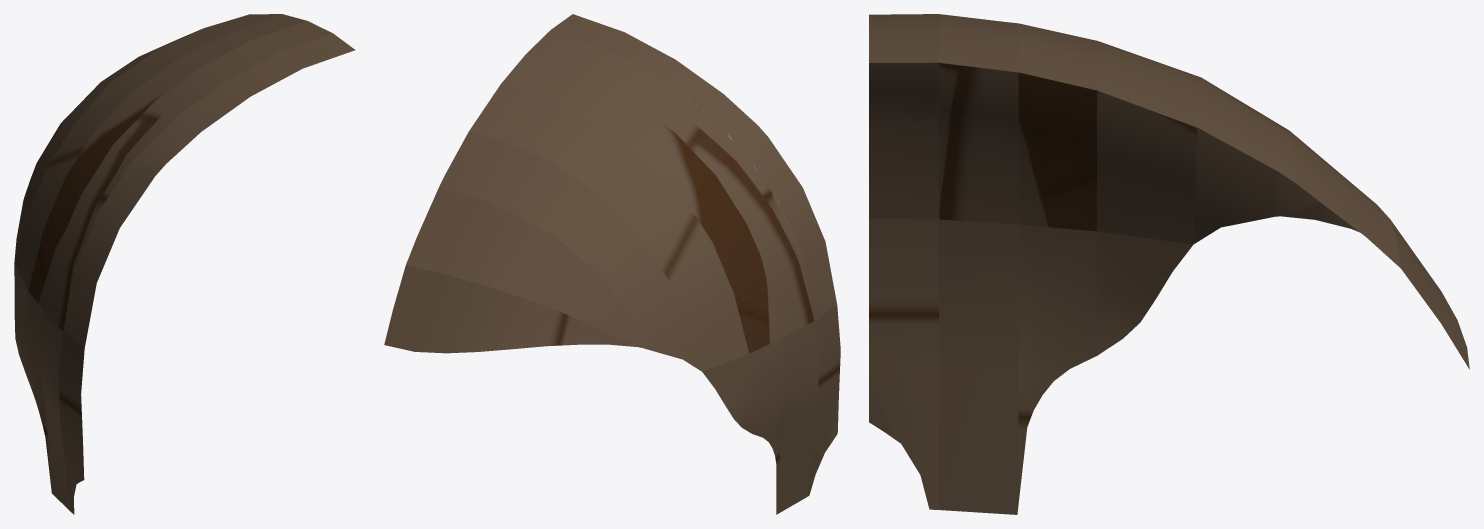
The model's file is Front_left_helm.fbx.
3 views of the same model, side by side, from view 1: azimuth 30°, elevation 25°; view 2: azimuth 150°, elevation 25°; view 3: azimuth 270°, elevation 25° (orthographic). The views are drawn at different scales.
Parts seen in each view (by area): view 1: Front_left_helm_5_1, Front_left_helm_5_3, Front_left_helm_5_5, Front_left_helm_5_7, Front_left_helm_5_2, Front_left_helm_5_4, Front_left_helm_5_9, Front_left_helm_5_6, Front_left_helm_5_8; view 2: Front_left_helm_5_7, Front_left_helm_5_9, Front_left_helm_5_5, Front_left_helm_5_10, Front_left_helm_5_3, Front_left_helm_5_11, Front_left_helm_5_1, Front_left_helm_5_4, Front_left_helm_5_2, Front_left_helm_5_6, Front_left_helm_5_8; view 3: Front_left_helm_5_4, Front_left_helm_5_7, Front_left_helm_5_2, Front_left_helm_5_3, Front_left_helm_5_5, Front_left_helm_5_1, Front_left_helm_5_6, Front_left_helm_5_9, Front_left_helm_5_8, Front_left_helm_5_10, Front_left_helm_5_11.
Part boxes in pixels (box(x1,y1,x2,y2)): Front_left_helm_5_1: box(63, 33, 355, 348); Front_left_helm_5_3: box(44, 21, 332, 331); Front_left_helm_5_5: box(28, 14, 306, 310); Front_left_helm_5_7: box(14, 14, 281, 290); Front_left_helm_5_2: box(58, 332, 84, 514); Front_left_helm_5_4: box(39, 312, 71, 512); Front_left_helm_5_9: box(14, 29, 200, 262); Front_left_helm_5_6: box(22, 291, 51, 489); Front_left_helm_5_8: box(14, 264, 27, 371); Front_left_helm_5_7: box(469, 84, 749, 371); Front_left_helm_5_9: box(439, 131, 701, 371); Front_left_helm_5_5: box(501, 54, 782, 353); Front_left_helm_5_10: box(406, 187, 641, 347); Front_left_helm_5_3: box(526, 30, 814, 337); Front_left_helm_5_11: box(384, 265, 636, 353); Front_left_helm_5_1: box(551, 14, 837, 320); Front_left_helm_5_4: box(776, 321, 818, 514); Front_left_helm_5_2: box(806, 306, 840, 497); Front_left_helm_5_6: box(749, 338, 787, 510); Front_left_helm_5_8: box(702, 354, 754, 433); Front_left_helm_5_4: box(939, 219, 1018, 514); Front_left_helm_5_7: box(1097, 41, 1200, 244); Front_left_helm_5_2: box(869, 218, 938, 509); Front_left_helm_5_3: box(939, 14, 1018, 224); Front_left_helm_5_5: box(1018, 23, 1097, 231); Front_left_helm_5_1: box(869, 14, 938, 219); Front_left_helm_5_6: box(1017, 224, 1096, 513); Front_left_helm_5_9: box(1193, 77, 1295, 243); Front_left_helm_5_8: box(1097, 231, 1193, 355); Front_left_helm_5_10: box(1275, 131, 1400, 268); Front_left_helm_5_11: box(1281, 203, 1469, 369).
Size of the model in its own units: 9.16 by 13.26 by 11.17.
